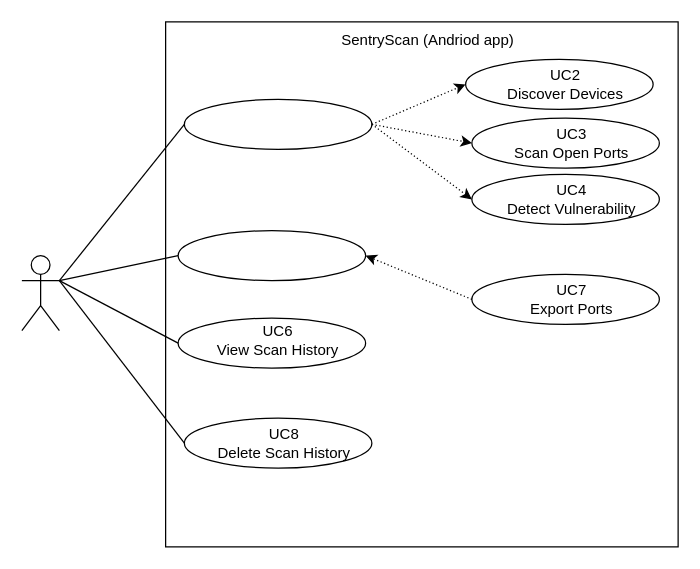
The diagram is 700 pixels wide and 569 high, and some of its shapes have lost their labels. The centre of each missing label's shape, as x and y in pixels:
"UC1 Start Network Scan" belongs at point 277,123.
"UC5 View Scan Results" belongs at point 271,255.
"User" belongs at point 40,292.
